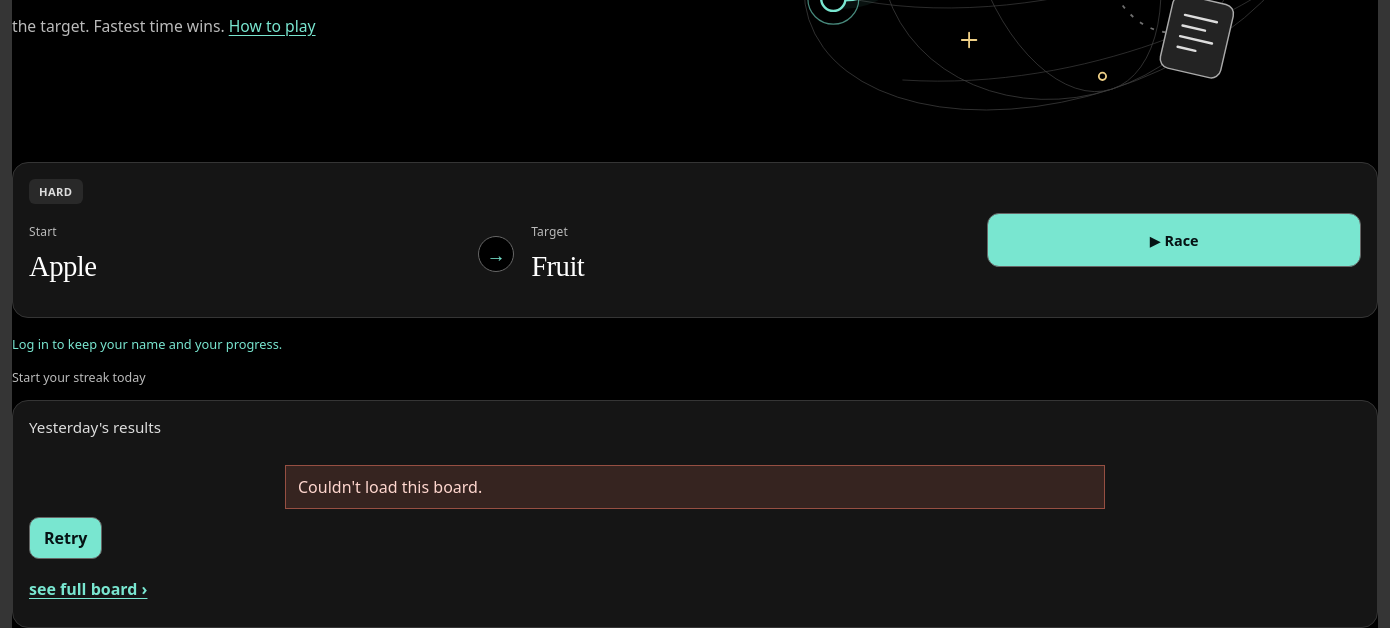
it: Home: RC-06 (one honest loading/error system) - 'Yesterday's results' board tri-state › Retry recovers the board in place once the fetch succeeds
The image size is (1390, 628).
(page scrolled)
Click the button "Retry". click: click(66, 538)
box: x1=29 y1=517 x2=102 y2=559
(page scrolled)
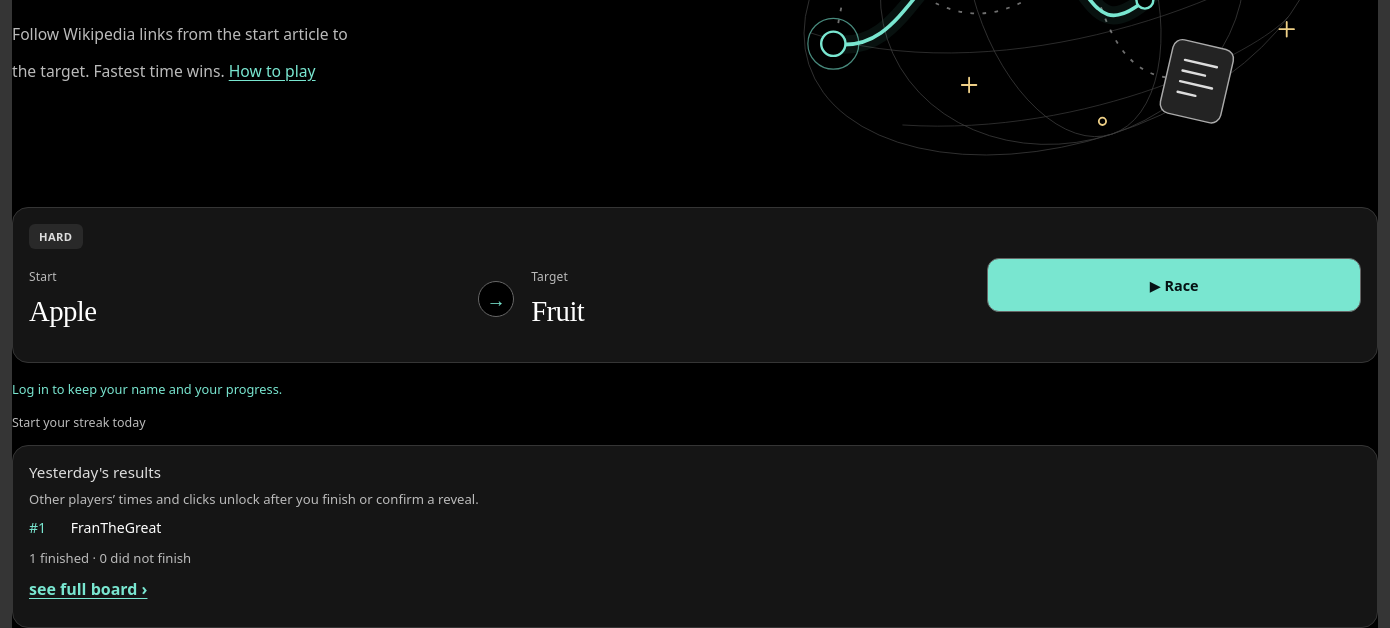
Result: the text "FranTheGreat" is shown at x1=71 y1=518 x2=161 y2=537
Result: the text "couldn.t load this board" is gone
